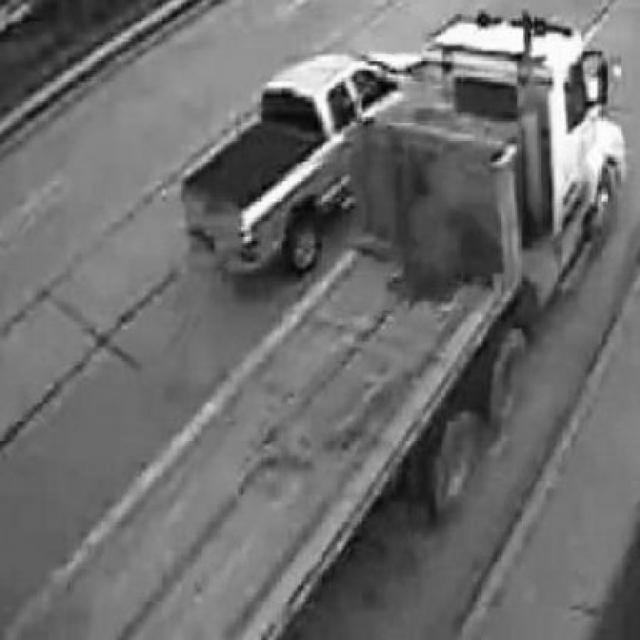Box Truck: (2, 0, 628, 640)
